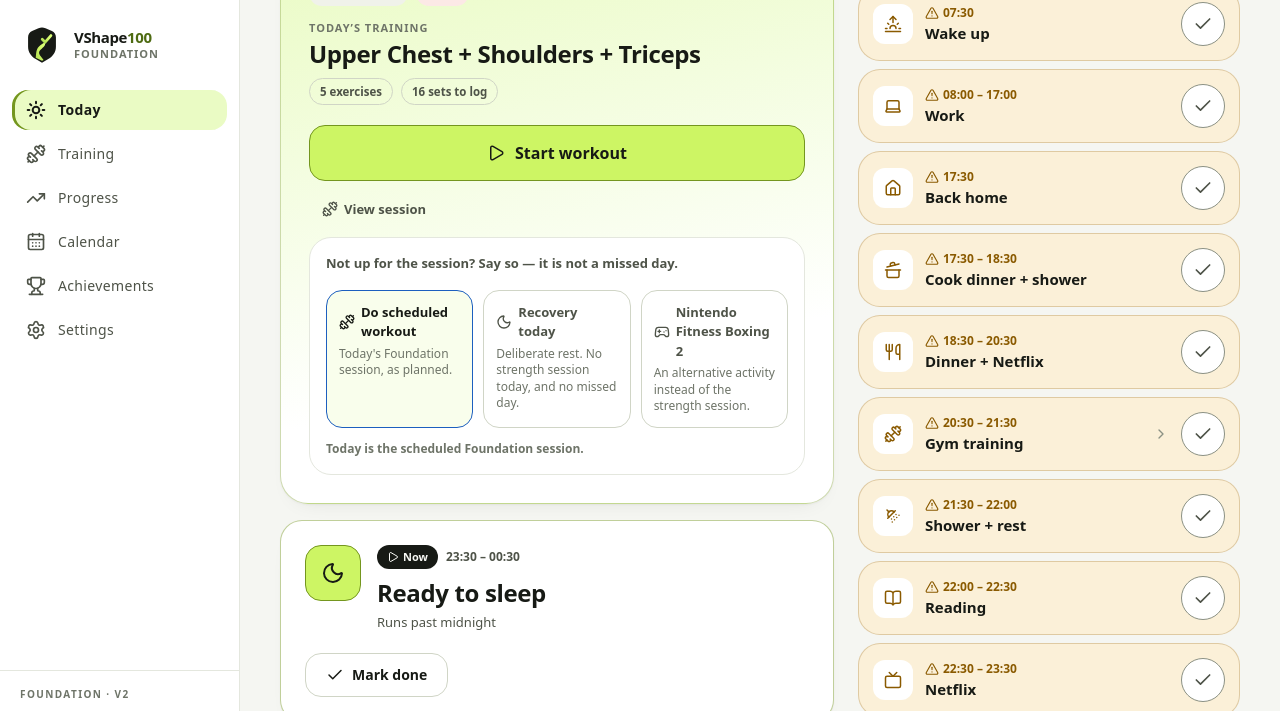
Test: 2. a choice persists and is shown back › records {} and confirms it
The width and height of the screenshot is (1280, 711).
(page scrolled)
Click the radio button labelled "Recovery today".
click(557, 359)  # box [483,290,631,428]
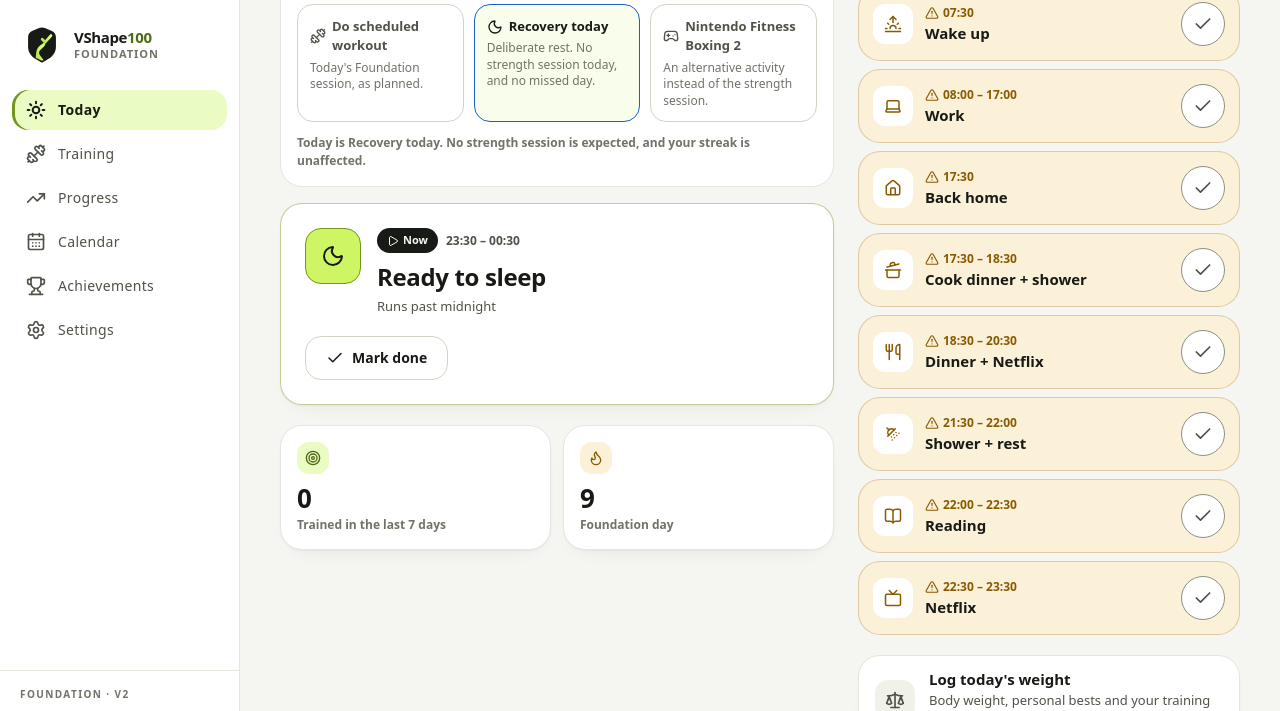
Check: the text "streak is unaffected" is shown, box [297,134,750,170]
